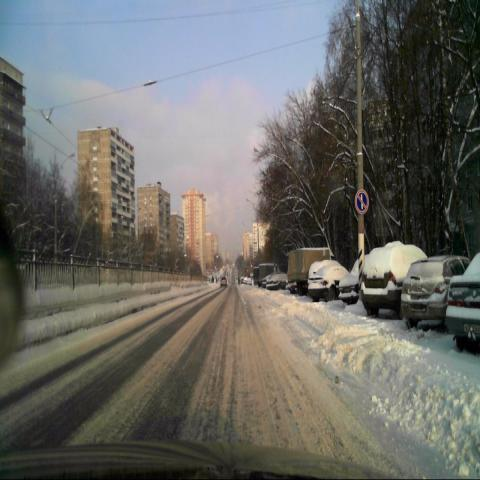3_29: (354, 188, 369, 215)
